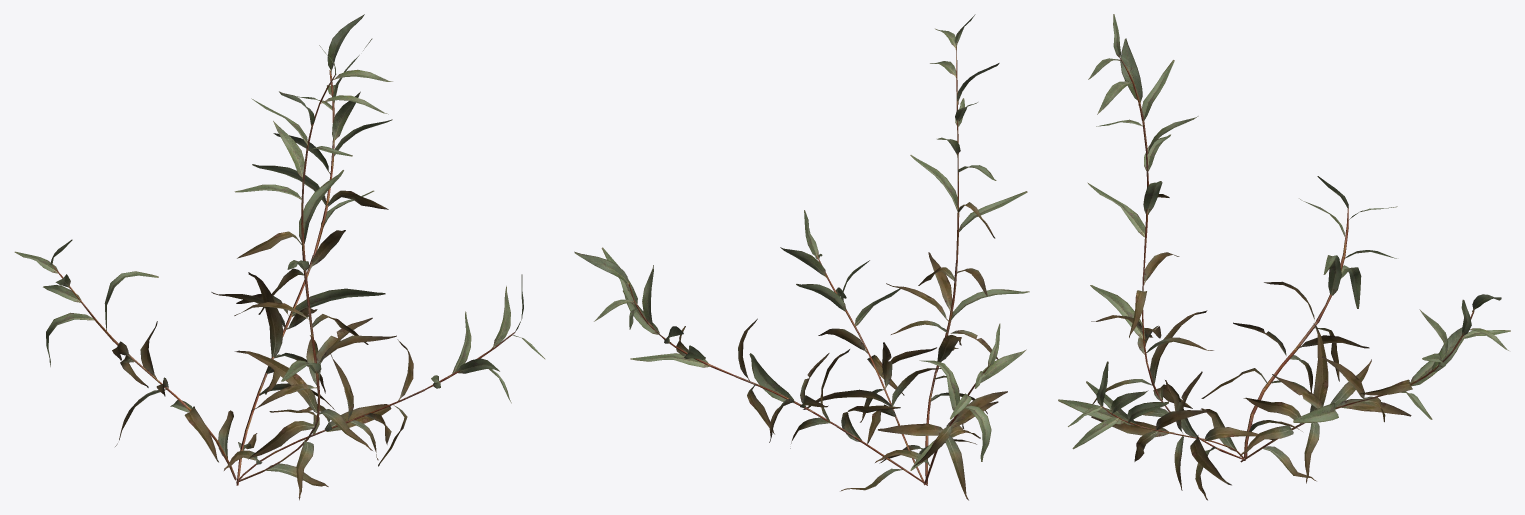
File: shrub_02_d.gltf.lod.glb
3 renders of one model, left to right at view 1: azimuth 30°, elevation 25°; view 2: azimuth 150°, elevation 25°; view 3: azimuth 270°, elevation 25°, orthographic. The views are drawn at different scales.
Visible parts, largest first — view 1: shrub_02_d; view 2: shrub_02_d; view 3: shrub_02_d.
Part boxes in pixels (bbox=[...]): shrub_02_d: bbox=[14, 14, 545, 500]; shrub_02_d: bbox=[574, 14, 1029, 500]; shrub_02_d: bbox=[1058, 14, 1510, 500].
Bounding box in the file's own units: 1.07 × 1.23 × 1.1.
1 material, 1 textured.
